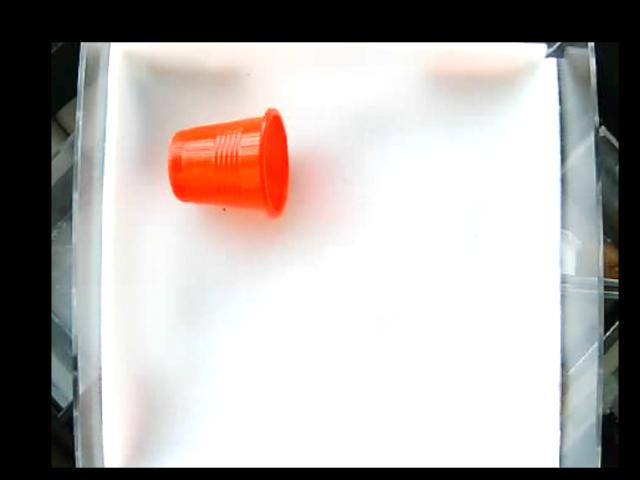Cup: (167, 107, 292, 216)
